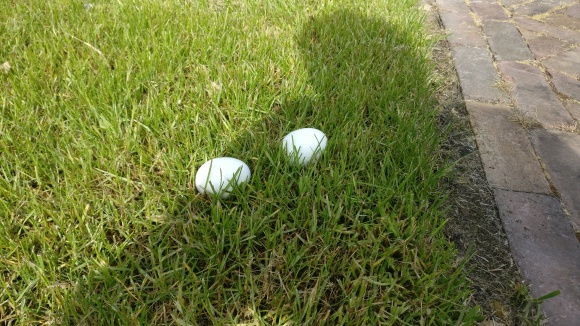egg: (195, 156, 250, 200), (279, 127, 328, 165)
